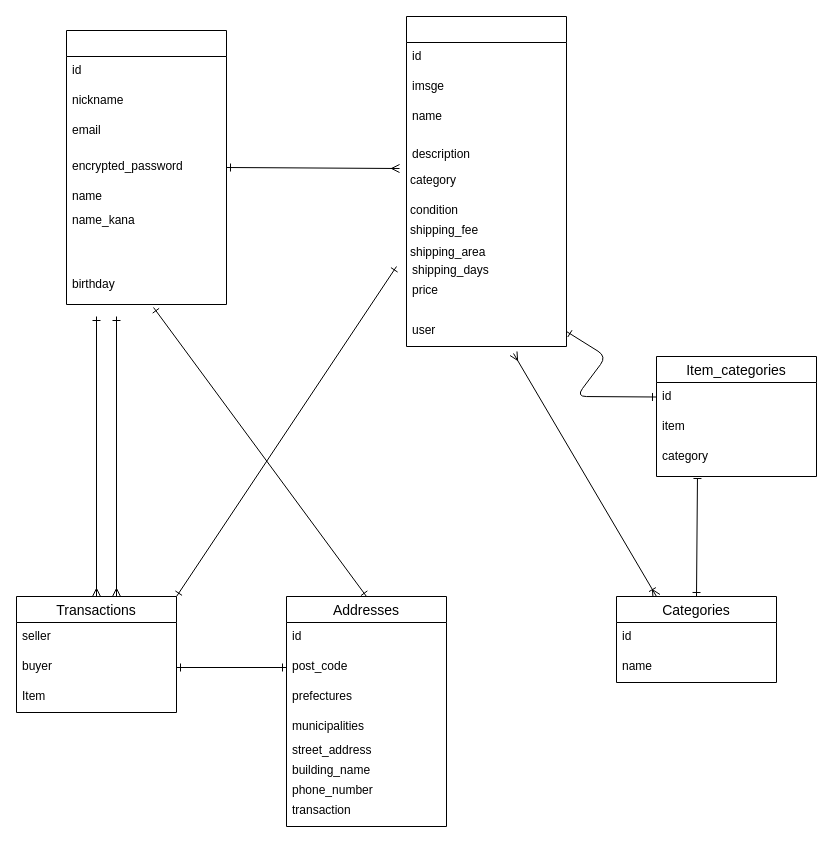
Some shapes in this 833 by 843 pixel diagram are drawn without their labels. Here are the shapes that lost their labels. From the top down, the box of each, then its label:
(66, 30, 226, 304): Users
(406, 16, 566, 346): Items
